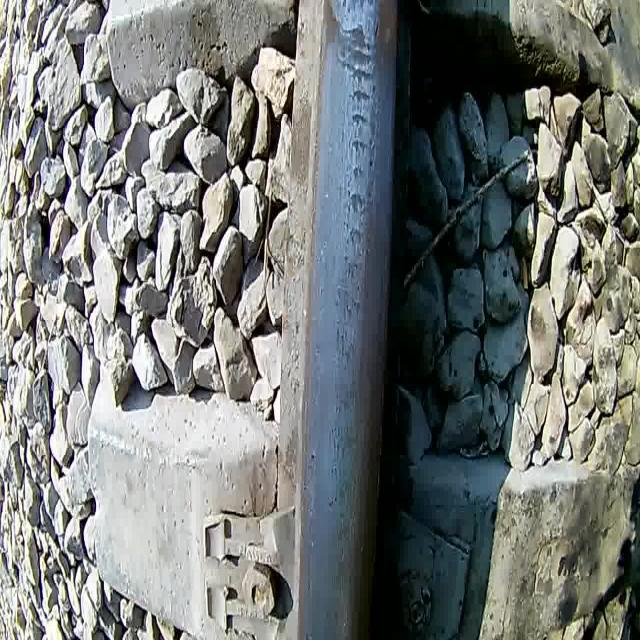Squats: (333, 20, 376, 374)
